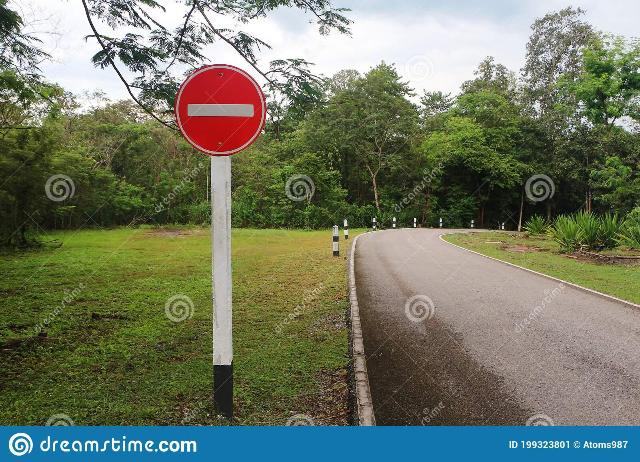B2: (174, 63, 266, 157)
